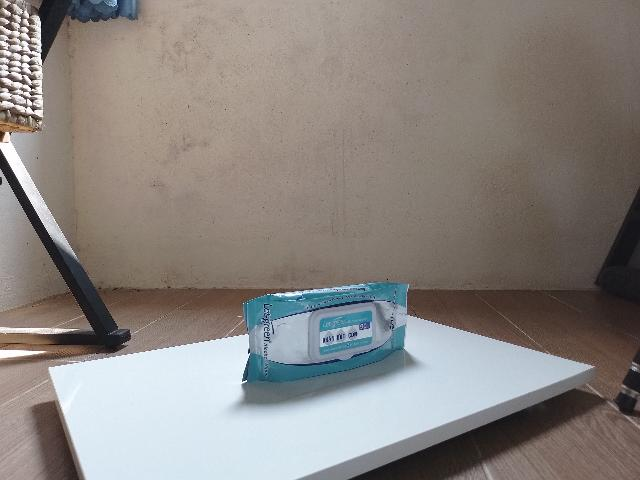Let-green_alcohol_wipes: (241, 283, 410, 383)
